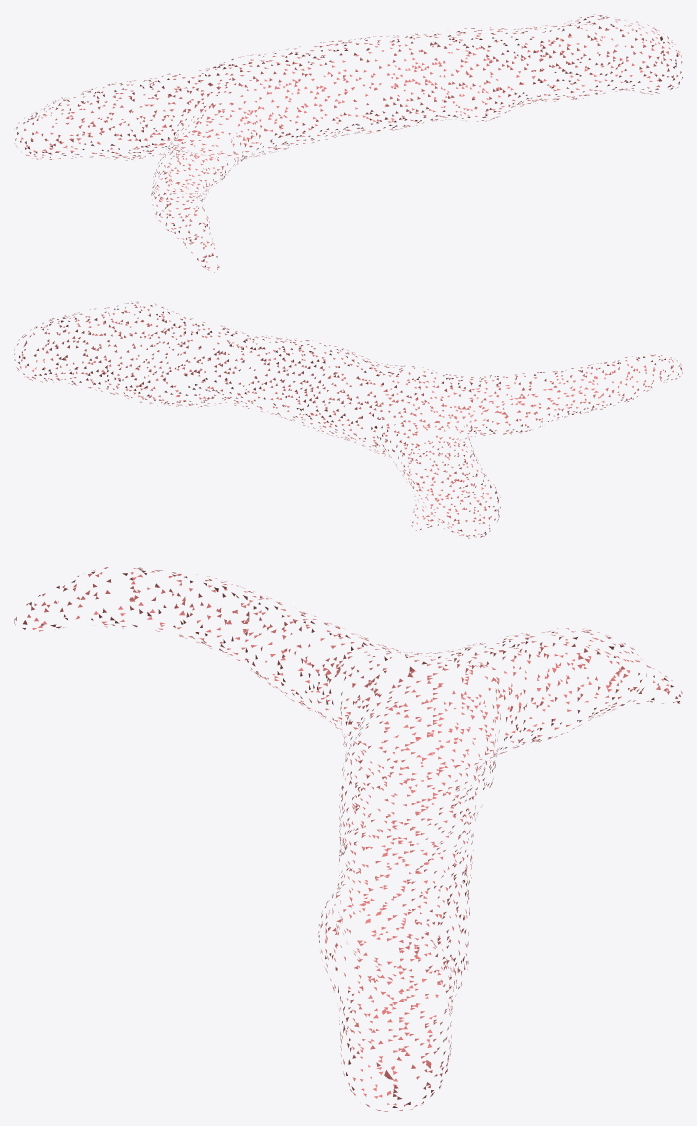
File: morph_000.glb
3 renders of one model, top to bottom at view 1: azimuth 30°, elevation 25°; view 2: azimuth 150°, elevation 25°; view 3: azimuth 270°, elevation 25°, orthographic. The views are drawn at different scales.
Bounding box in the file's own units: 131 × 23.46 × 86.7.
